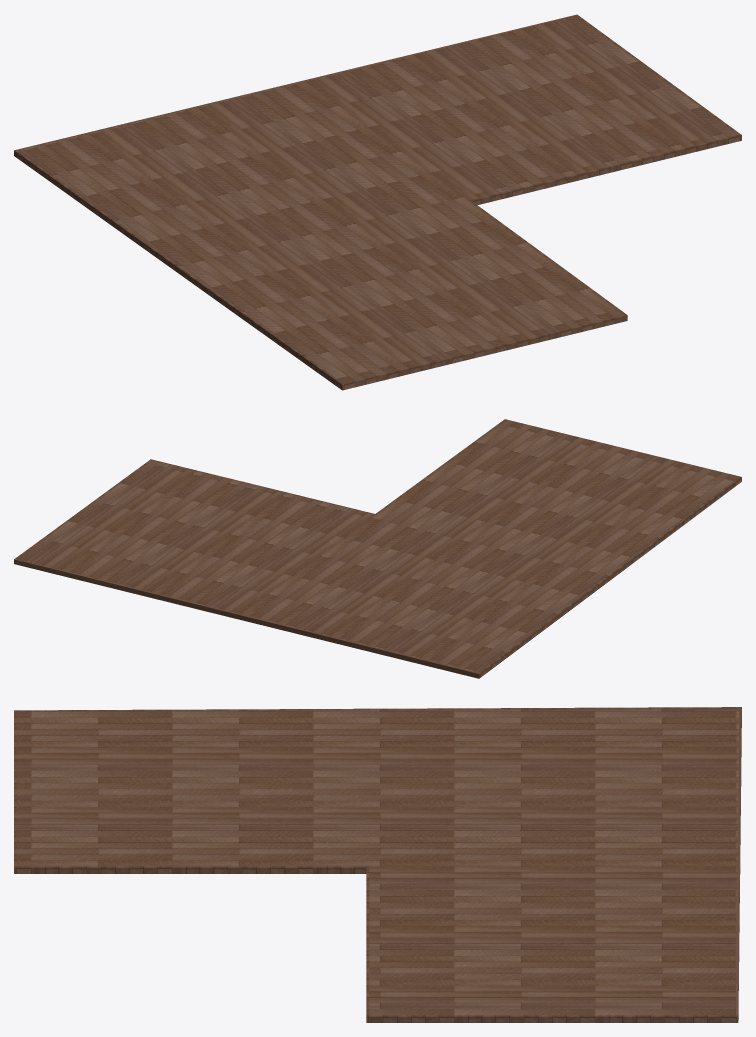
3 views of the same model, one above another, from view 1: azimuth 30°, elevation 25°; view 2: azimuth 150°, elevation 25°; view 3: azimuth 270°, elevation 25° (orthographic). The views are drawn at different scales.
Parts seen in each view (by area): view 1: Floor#0_3; view 2: Floor#0_3; view 3: Floor#0_3.
Part boxes in pixels (left/top/right/bottom): Floor#0_3: left=14, top=14, right=741, bottom=390; Floor#0_3: left=14, top=419, right=741, bottom=678; Floor#0_3: left=14, top=707, right=741, bottom=1022.
Size of the model in its own units: 5.2 by 0.05 by 5.16.
Materials: 1 (1 with a texture image).
